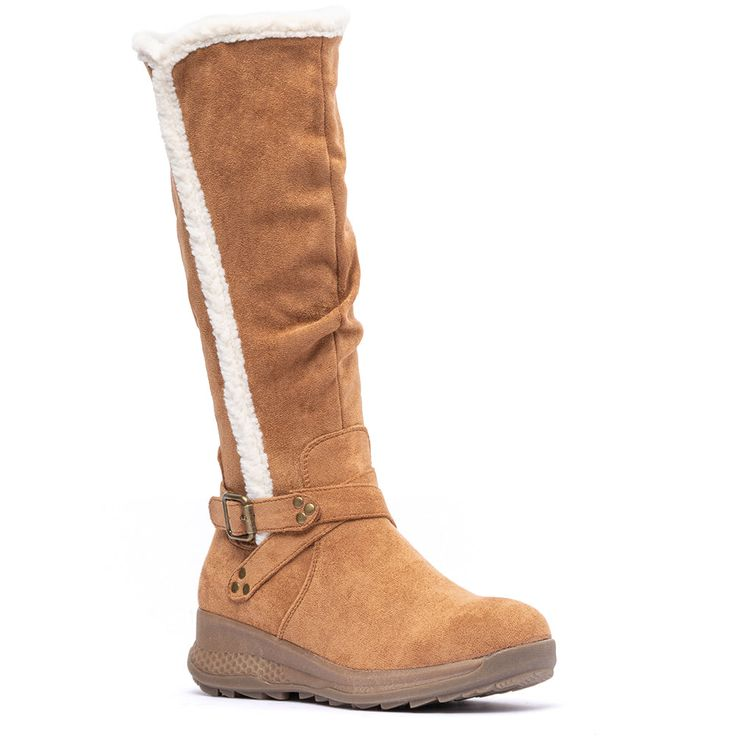gamuza: (148, 36, 552, 673)
